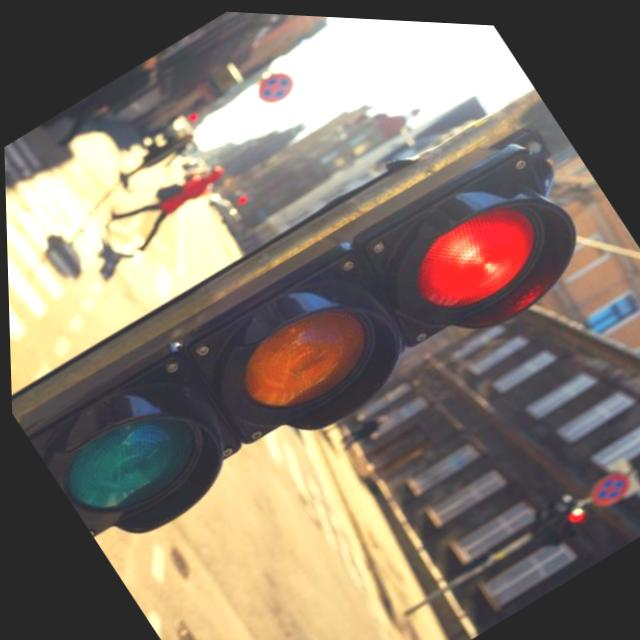Merah: (398, 179, 559, 324)
